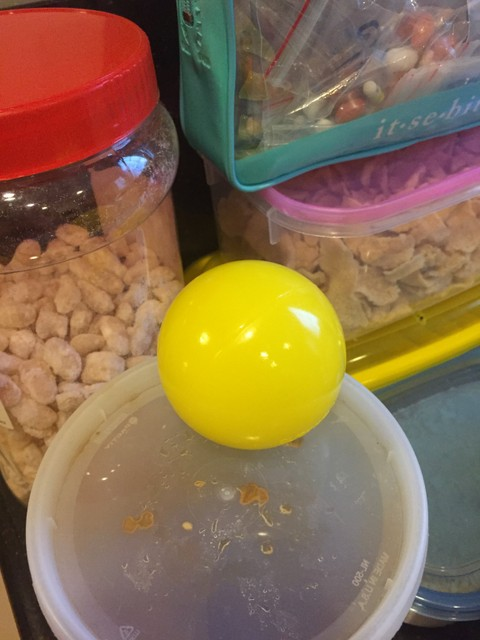ball: (159, 259, 348, 453)
